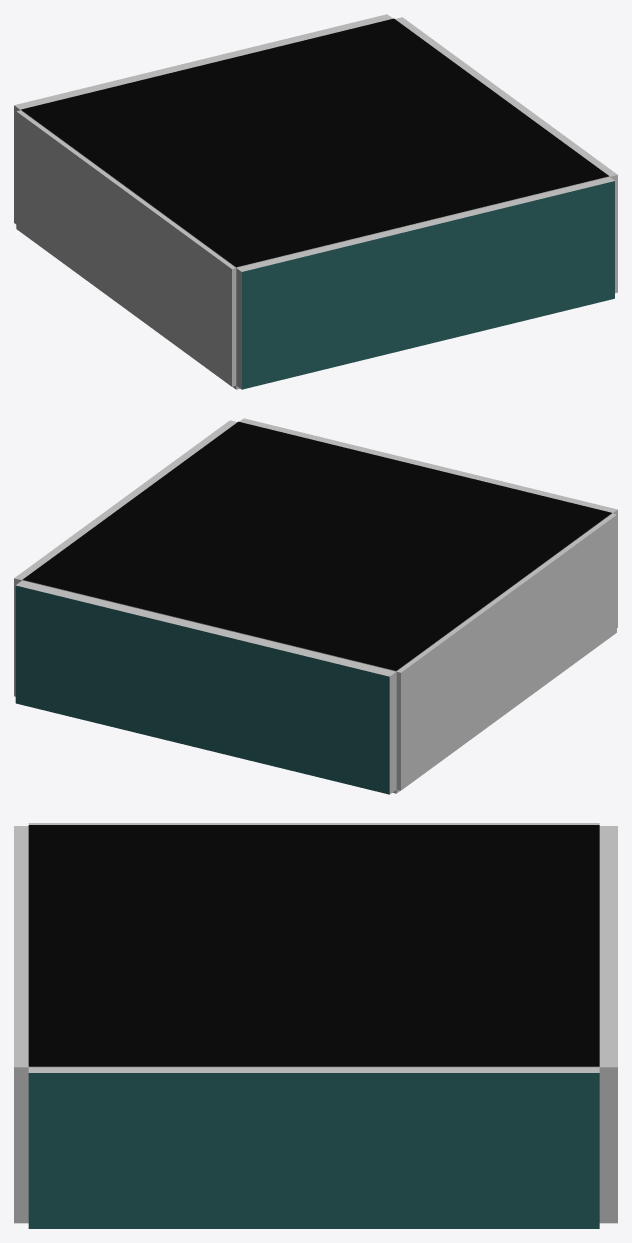
The model's file is Apartment.fbx.
3 views of the same model, one above another, from view 1: azimuth 30°, elevation 25°; view 2: azimuth 150°, elevation 25°; view 3: azimuth 270°, elevation 25° (orthographic). The views are drawn at different scales.
Visible parts, largest first — view 1: Room_Outline, Room_Outline_1; view 2: Room_Outline, Room_Outline_1; view 3: Room_Outline, Room_Outline_1.
Part boxes in pixels (box(x1,y1,x2,y2)): Room_Outline: box(14, 14, 617, 389); Room_Outline_1: box(16, 110, 236, 386); Room_Outline: box(14, 418, 617, 794); Room_Outline_1: box(396, 513, 616, 790); Room_Outline: box(14, 825, 617, 1228); Room_Outline_1: box(28, 823, 599, 824).
Size of the model in its own units: 6866 by 2081 by 7017.
